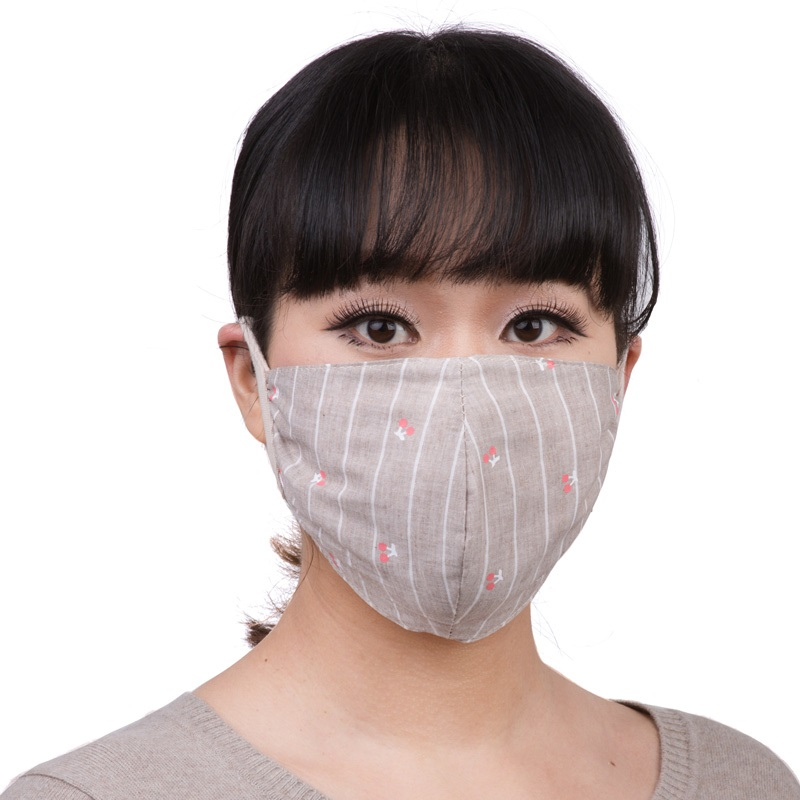face_mask: (269, 165, 619, 633)
